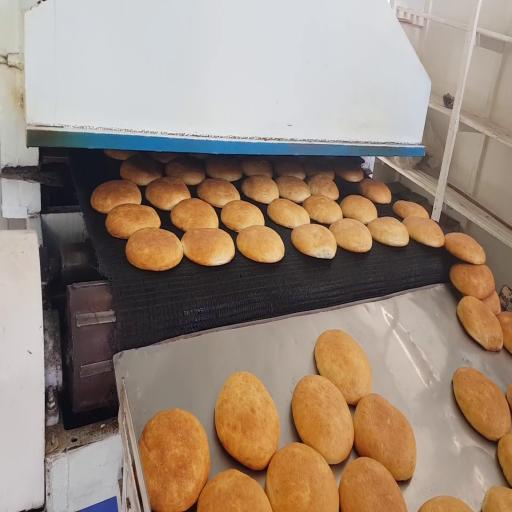bread: (139, 410, 210, 511), (215, 372, 279, 470), (292, 375, 353, 464), (354, 394, 416, 480), (265, 443, 339, 511), (315, 330, 372, 404), (453, 367, 510, 440), (339, 458, 407, 511), (197, 469, 271, 511), (457, 296, 503, 351), (126, 228, 183, 271), (182, 229, 234, 266), (106, 204, 160, 239), (237, 226, 284, 263), (91, 180, 141, 213), (450, 264, 495, 300), (291, 224, 337, 259), (171, 199, 218, 231), (146, 176, 190, 210), (330, 219, 372, 253), (120, 154, 162, 186), (221, 201, 264, 232), (445, 233, 485, 265), (403, 216, 444, 247), (267, 199, 310, 228), (197, 179, 240, 208), (303, 194, 342, 225), (368, 217, 409, 246), (242, 175, 279, 204), (340, 195, 377, 224), (166, 158, 205, 185), (205, 156, 242, 181), (276, 176, 310, 203), (496, 299, 512, 353), (308, 174, 339, 200), (419, 496, 472, 511), (359, 179, 391, 203), (482, 487, 511, 511), (498, 433, 511, 485), (304, 158, 334, 180), (393, 201, 429, 219), (241, 158, 273, 178), (275, 159, 305, 180), (335, 167, 364, 182), (483, 291, 501, 314), (104, 149, 137, 160), (150, 152, 180, 164), (506, 384, 511, 408), (188, 154, 208, 160)
